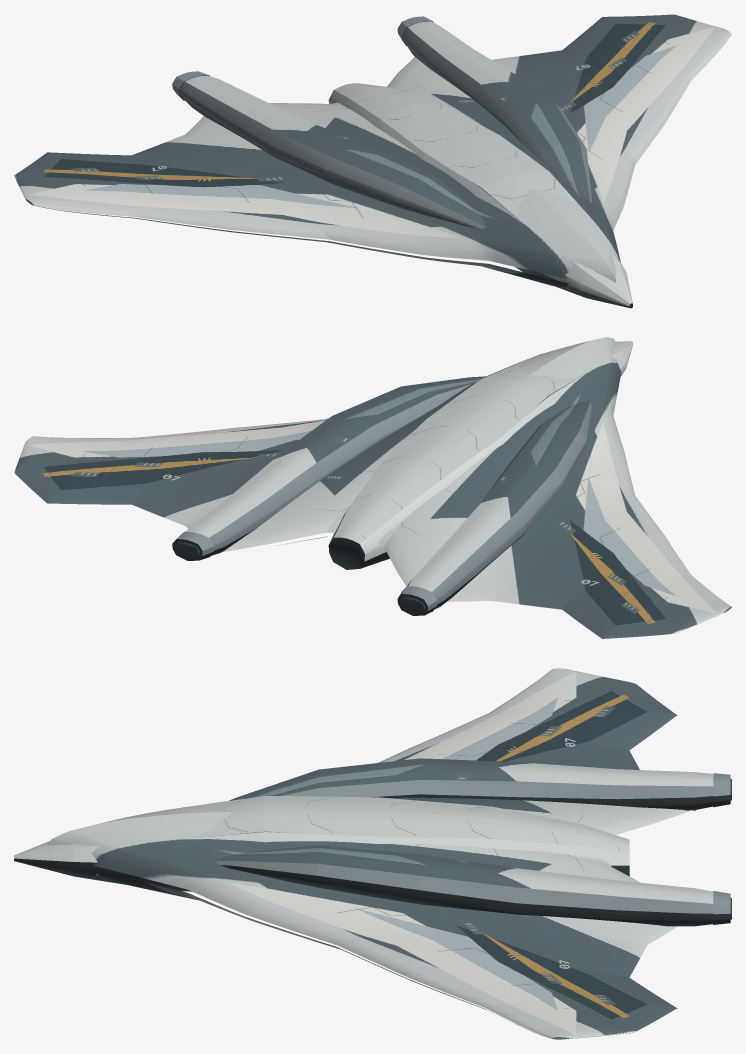
Rendered from uav.glb.
3 renders of one model, top to bottom at view 1: azimuth 30°, elevation 25°; view 2: azimuth 150°, elevation 25°; view 3: azimuth 270°, elevation 25°, orthographic. The views are drawn at different scales.
Parts seen in each view (by area): view 1: Port / cranked wing, Starboard / cranked wing, Central ceramic fuselage, Left / floating shoulder, Right / floating shoulder; view 2: Port / cranked wing, Starboard / cranked wing, Central ceramic fuselage, Right / floating shoulder, Left / floating shoulder, Right / aft bezel, Left / aft bezel; view 3: Starboard / cranked wing, Port / cranked wing, Right / floating shoulder, Central ceramic fuselage, Left / floating shoulder.
Part boxes in pixels (left/top/right/bottom): Port / cranked wing: left=14, top=102, right=615, bottom=288; Starboard / cranked wing: left=387, top=14, right=731, bottom=282; Central ceramic fuselage: left=328, top=83, right=632, bottom=308; Left / floating shoulder: left=180, top=75, right=486, bottom=228; Right / floating shoulder: left=403, top=21, right=591, bottom=202; Port / cranked wing: left=378, top=337, right=731, bottom=638; Starboard / cranked wing: left=14, top=340, right=590, bottom=552; Central ceramic fuselage: left=328, top=341, right=632, bottom=569; Right / floating shoulder: left=186, top=376, right=485, bottom=555; Left / floating shoulder: left=407, top=401, right=591, bottom=609; Right / aft bezel: left=172, top=531, right=214, bottom=560; Left / aft bezel: left=397, top=586, right=437, bottom=615; Starboard / cranked wing: left=47, top=812, right=677, bottom=1039; Port / cranked wing: left=101, top=668, right=695, bottom=834; Right / floating shoulder: left=215, top=845, right=713, bottom=926; Central ceramic fuselage: left=14, top=795, right=629, bottom=891; Left / floating shoulder: left=229, top=758, right=713, bottom=810.
Bounding box in the file's own units: 26 × 2.7 × 21.4.
Materials: 5 (2 with a texture image).
